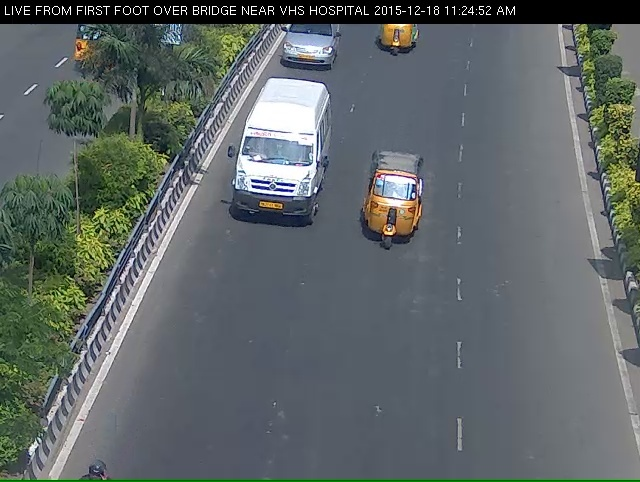Bus: (226, 81, 327, 247)
Car: (356, 157, 432, 268), (275, 24, 338, 78), (369, 22, 419, 70)
